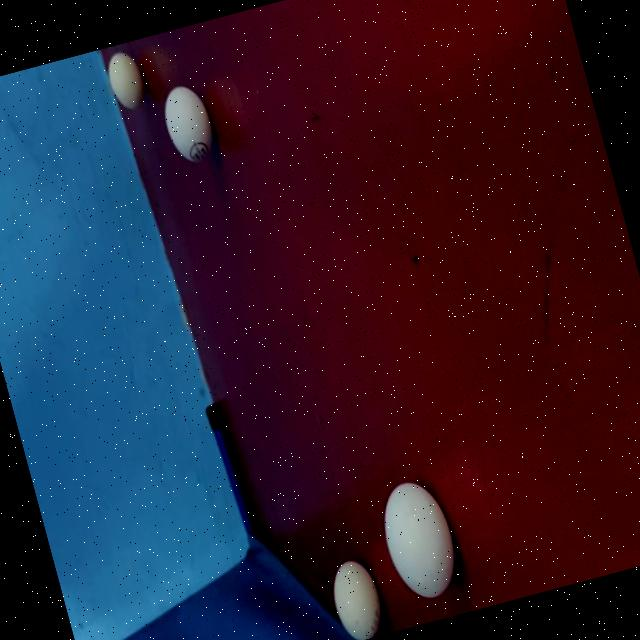ping-pong-ball: (360, 452, 470, 618), (146, 66, 234, 190), (315, 545, 390, 640), (96, 40, 154, 128)
